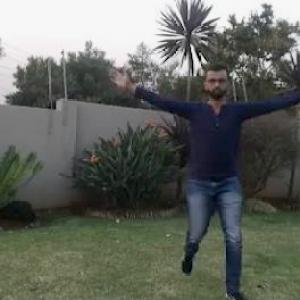takeoff: (108, 73, 299, 288)
